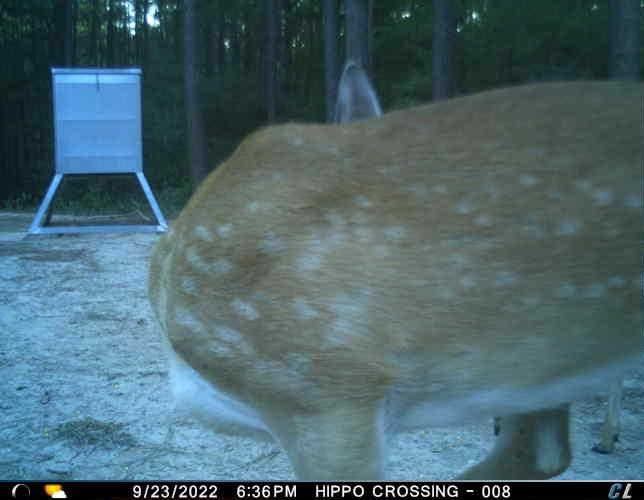Deer: (145, 58, 644, 479)
